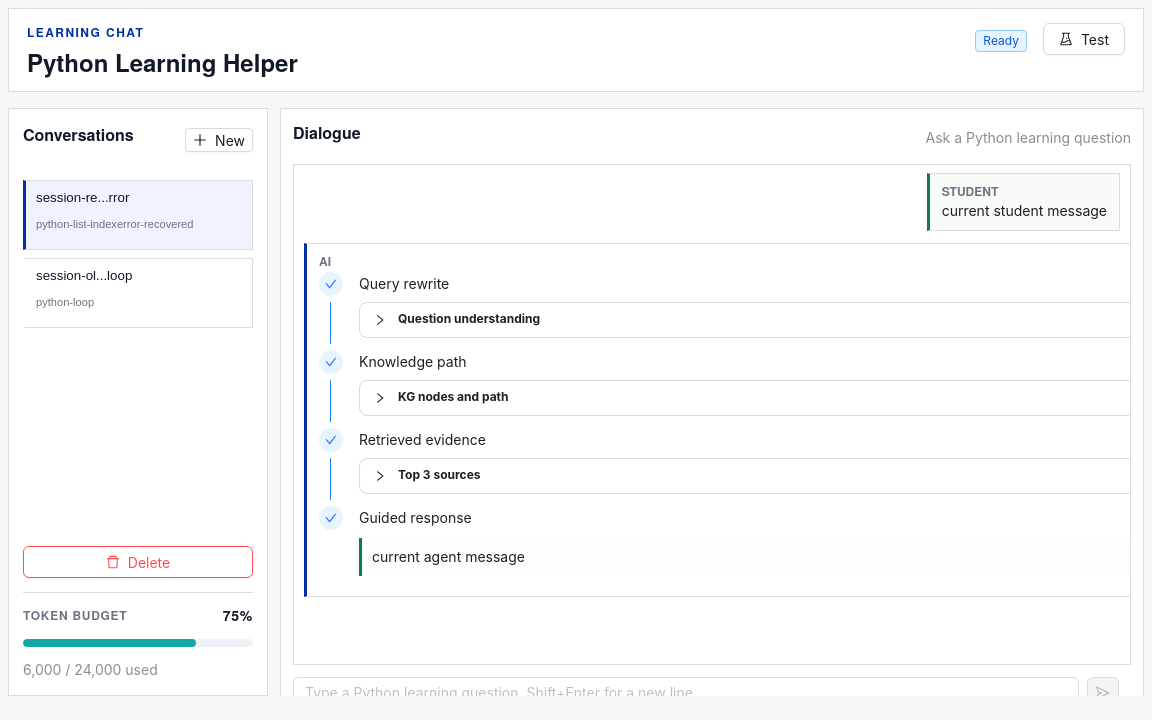
shows the student turn and query rewrite spinner immediately while backend is pending
Expected: the text "session-re...rror" is shown, [36,190,129,205]
In the text box with placeholder "Type a Python learning question. Shift+Enter for a new line.": (686, 693) [293,677,1079,709], type "student list question"
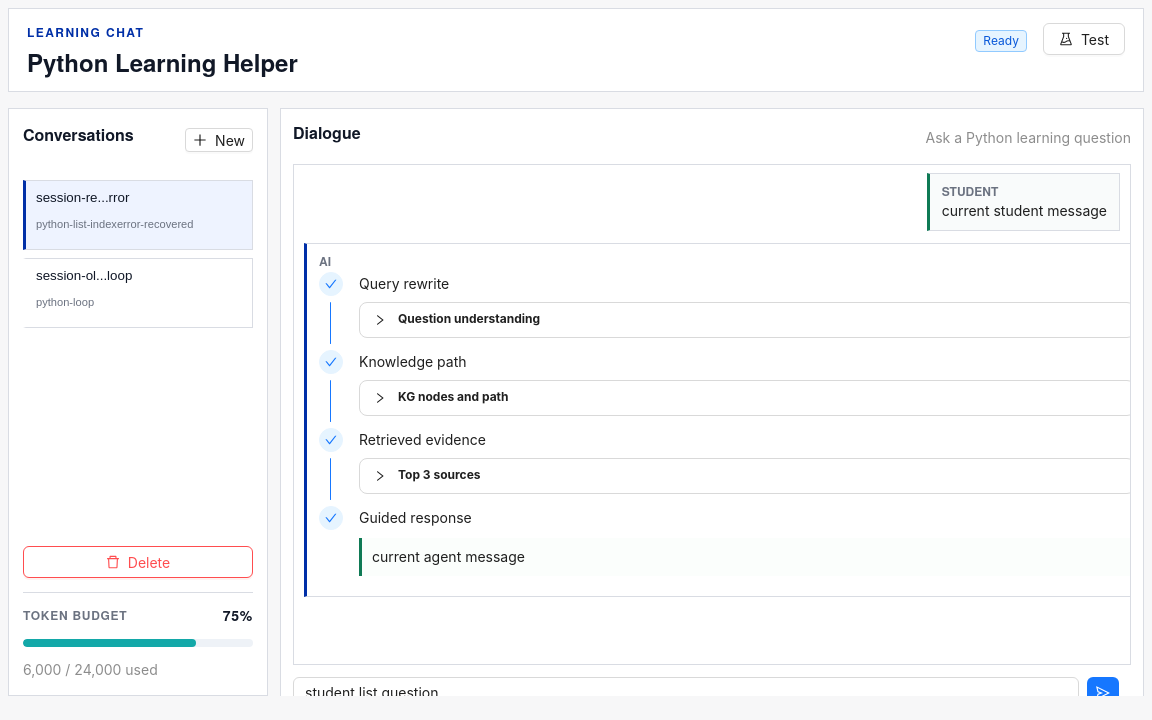
Press Enter in the text box with placeholder "Type a Python learning question. Shift+Enter for a new line.", box [293,677,1079,709]
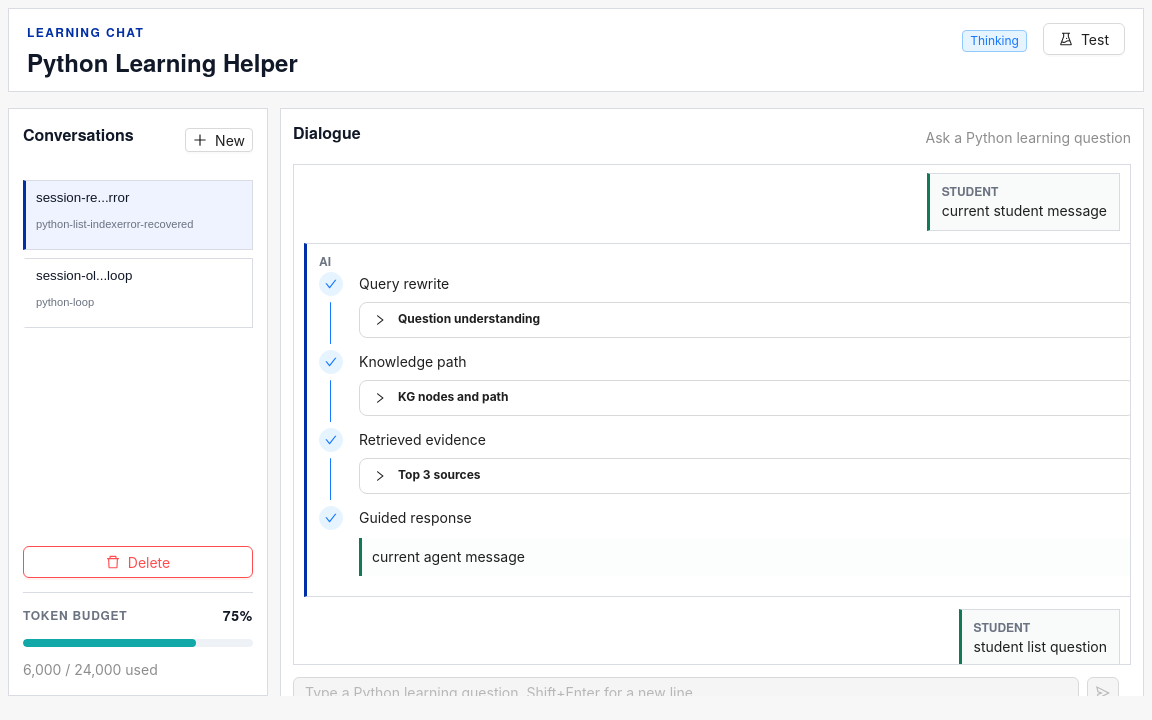
Expected: the text "Query rewrite" is shown, [359,272,461,296]
Expected: the text "student list question" is shown, [974,636,1107,658]
Expected: the text "Thinking" is shown, [962,30,1027,52]
